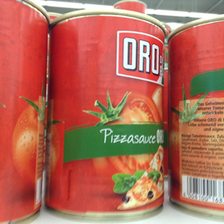tomato_sauce: (44, 7, 169, 223), (167, 13, 224, 215)
